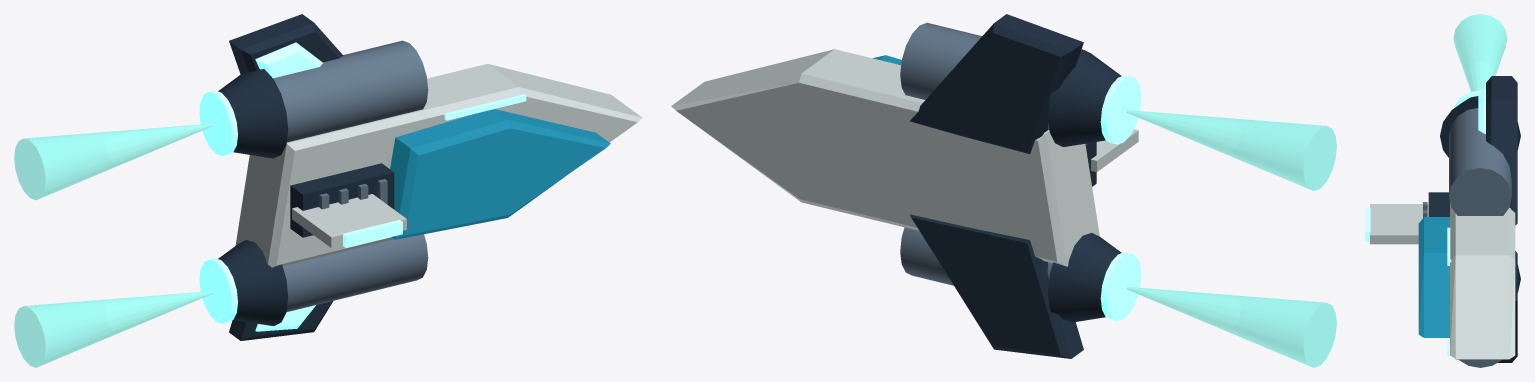
The model's file is kestrel-tug.glb.
The picture shows the model from 3 angles, left to right: view 1: azimuth 30°, elevation 25°; view 2: azimuth 150°, elevation 25°; view 3: azimuth 270°, elevation 25°; orthographic projection. The views are drawn at different scales.
Parts seen in each view (by area): view 1: Kestrel / vector rocket, thruster (×2); view 2: Kestrel / vector rocket, thruster (×2); view 3: Kestrel / vector rocket, thruster.
Part boxes in pixels (bbox=[...]): Kestrel / vector rocket: bbox=[199, 14, 642, 340]; thruster (×2): bbox=[14, 123, 213, 367]; Kestrel / vector rocket: bbox=[671, 14, 1141, 358]; thruster (×2): bbox=[1126, 110, 1336, 367]; Kestrel / vector rocket: bbox=[1365, 76, 1520, 367]; thruster: bbox=[1453, 14, 1507, 91].
Bounding box in the file's own units: 2.62 × 1.29 × 0.6925.
